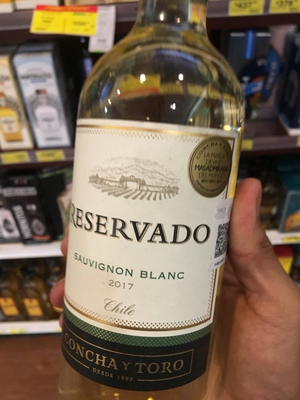reservado sauvignon blanc: (54, 10, 247, 391)
